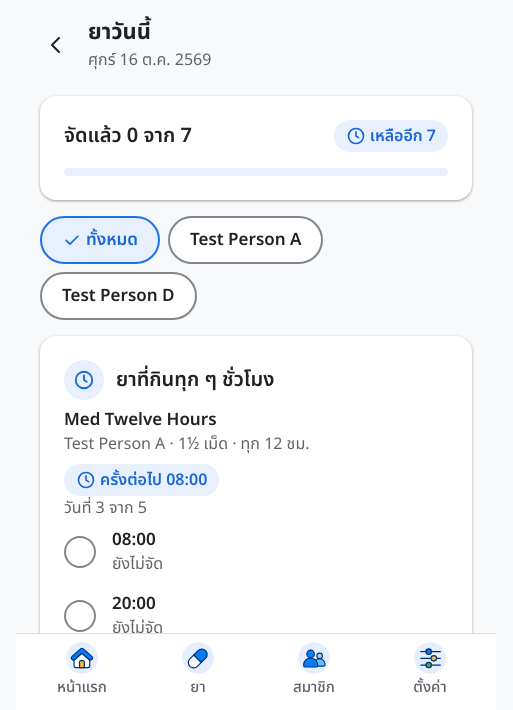
Test: today screen › the every-X-hours medicine has its own section with course day, next time and one row per time
Expected: the text "Test Person A · 1½ เม็ด · ทุก 12 ชม." is shown, [64,432,310,456]
Expected: the text "วันที่ 3 จาก 5" is shown, [64,496,147,520]
What coordinates should you click on to do the following:
click the checkbox labelled "08:00 ยังไม่จัด"
I would click on:
 (80, 552)
Its box is [64,520,448,584].
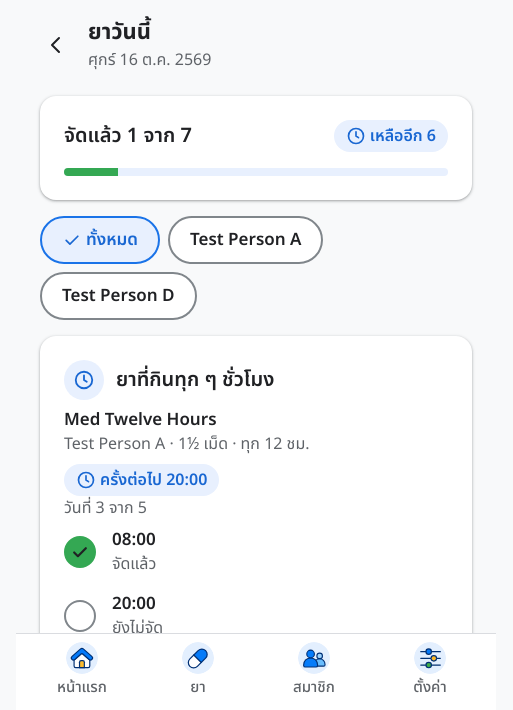
Result: the text "ครั้งต่อไป 20:00" is shown at [64,464,219,496]
What coordinates should you click on to do the following:
click the checkbox labelled "20:00 ยังไม่จัด"
I would click on:
 (80, 616)
Its box is [64,584,448,648].
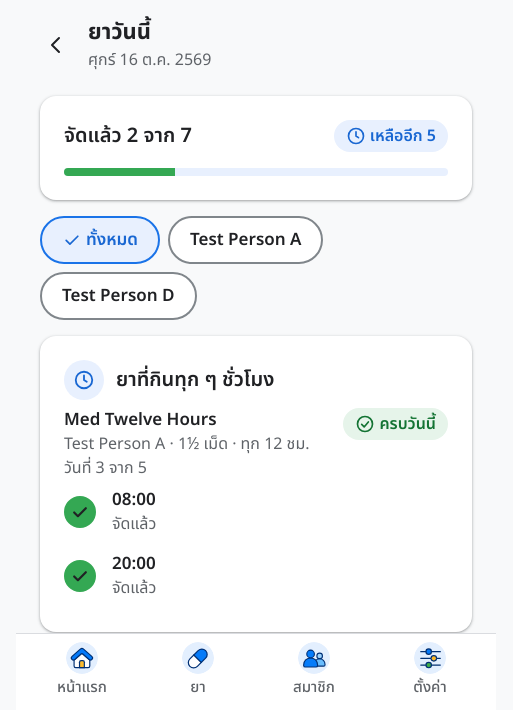
Result: the text "ครบวันนี้" is shown at [343,408,448,440]
Result: the text "ครั้งต่อไป" is gone
